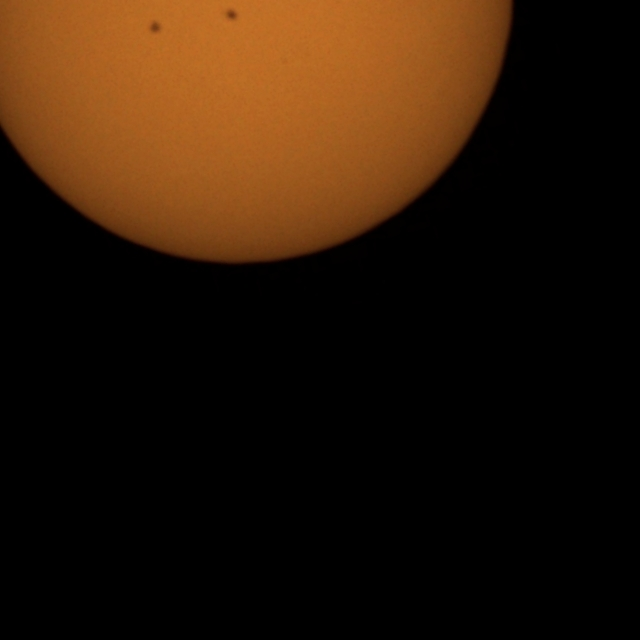sunspot: (224, 6, 240, 24), (147, 19, 163, 36)
